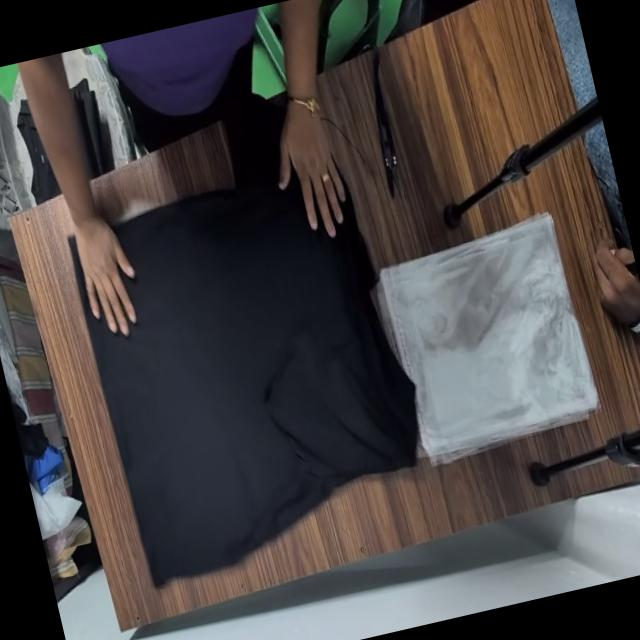new-garment: (87, 183, 417, 585)
